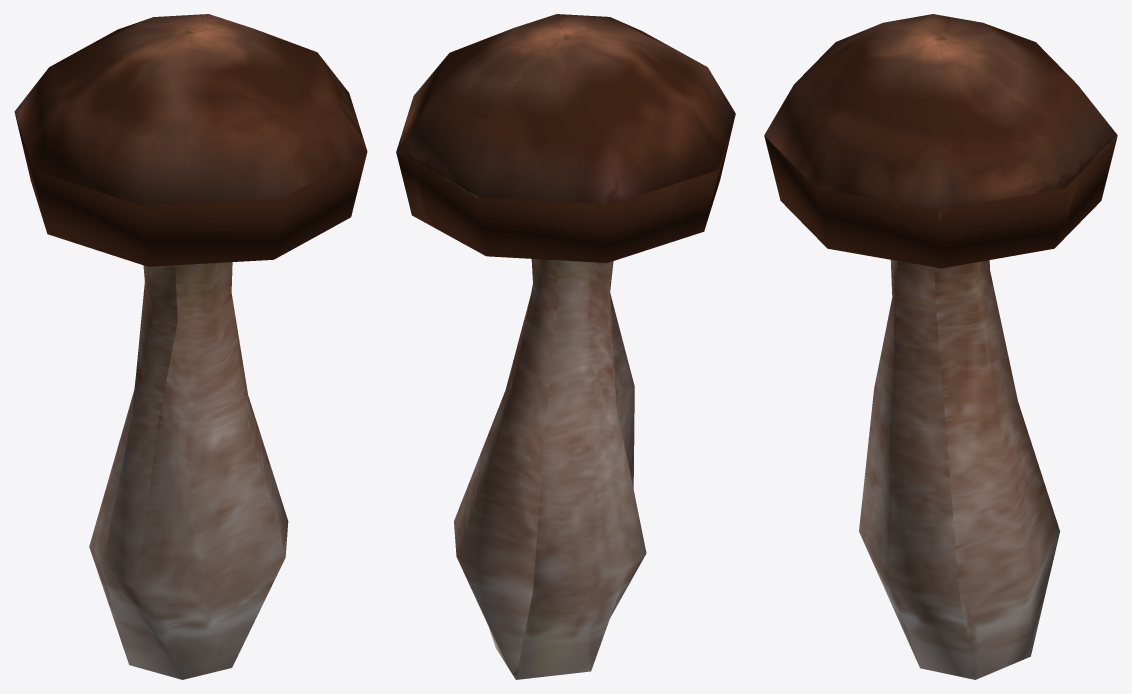
Rendered from mushroom2.gltf.
3 renders of one model, left to right at view 1: azimuth 30°, elevation 25°; view 2: azimuth 150°, elevation 25°; view 3: azimuth 270°, elevation 25°, orthographic. The views are drawn at different scales.
Parts seen in each view (by area): view 1: shroom.004; view 2: shroom.004; view 3: shroom.004.
Boxes of the visible parts, x1,y1,x2,y2 form: shroom.004: (14,14,367,679); shroom.004: (396,14,735,679); shroom.004: (764,14,1117,679).
Bounding box in the file's own units: 0.0776 × 0.1493 × 0.0776.
Materials: 1 (1 with a texture image).
